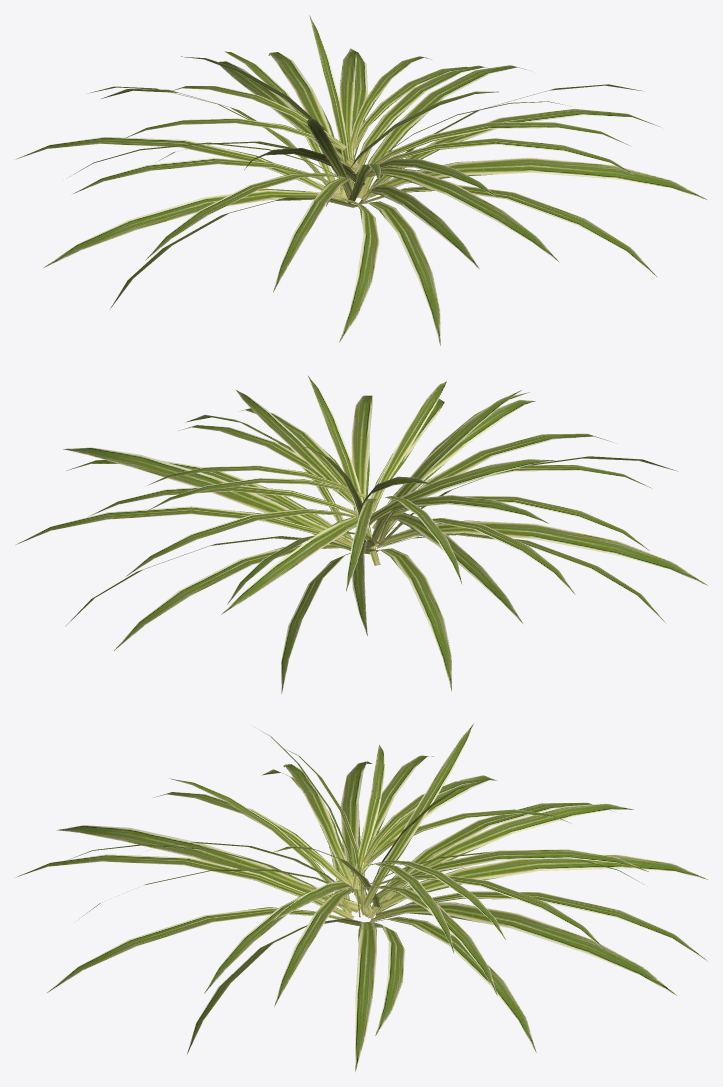
Rendered from spiderPlant.obj.
3 renders of one model, top to bottom at view 1: azimuth 30°, elevation 25°; view 2: azimuth 150°, elevation 25°; view 3: azimuth 270°, elevation 25°, orthographic. The views are drawn at different scales.
Parts seen in each view (by area): view 1: Mesh1 spiderLeaf1 SpiderPlant1 Model, Mesh35 spiderLeaf35 SpiderPlant1 Model, Mesh5 spiderLeaf5 SpiderPlant1 Model, Mesh32 spiderLeaf32 SpiderPlant1 Model, Mesh3 spiderLeaf3 SpiderPlant1 Model, Mesh23 spiderLeaf23 SpiderPlant1 Model, Mesh16 spiderLeaf16 SpiderPlant1 Model, Mesh22 spiderLeaf22 SpiderPlant1 Model, Mesh14 spiderLeaf14 SpiderPlant1 Model, Mesh30 spiderLeaf30 SpiderPlant1 Model, Mesh31 spiderLeaf31 SpiderPlant1 Model, Mesh6 spiderLeaf6 SpiderPlant1 Model (+21 smaller); view 2: Mesh17 spiderLeaf17 SpiderPlant1 Model, Mesh26 spiderLeaf26 SpiderPlant1 Model, Mesh3 spiderLeaf3 SpiderPlant1 Model, Mesh23 spiderLeaf23 SpiderPlant1 Model, Mesh27 spiderLeaf27 SpiderPlant1 Model, Mesh15 spiderLeaf15 SpiderPlant1 Model, Mesh21 spiderLeaf21 SpiderPlant1 Model, Mesh38 spiderLeaf38 SpiderPlant1 Model, Mesh16 spiderLeaf16 SpiderPlant1 Model, Mesh29 spiderLeaf29 SpiderPlant1 Model, Mesh32 spiderLeaf32 SpiderPlant1 Model, Mesh9 spiderLeaf9 SpiderPlant1 Model (+24 smaller); view 3: Mesh28 spiderLeaf28 SpiderPlant1 Model, Mesh22 spiderLeaf22 SpiderPlant1 Model, Mesh18 spiderLeaf18 SpiderPlant1 Model, Mesh24 spiderLeaf24 SpiderPlant1 Model, Mesh32 spiderLeaf32 SpiderPlant1 Model, Mesh14 spiderLeaf14 SpiderPlant1 Model, Mesh16 spiderLeaf16 SpiderPlant1 Model, Mesh25 spiderLeaf25 SpiderPlant1 Model, Mesh19 spiderLeaf19 SpiderPlant1 Model, Mesh15 spiderLeaf15 SpiderPlant1 Model, Mesh23 spiderLeaf23 SpiderPlant1 Model, Mesh3 spiderLeaf3 SpiderPlant1 Model (+19 smaller).
Boxes of the visible parts, <box> form: Mesh1 spiderLeaf1 SpiderPlant1 Model: <box>368,157,707,199</box>; Mesh35 spiderLeaf35 SpiderPlant1 Model: <box>43,188,345,267</box>; Mesh5 spiderLeaf5 SpiderPlant1 Model: <box>366,167,558,261</box>; Mesh32 spiderLeaf32 SpiderPlant1 Model: <box>356,201,440,345</box>; Mesh3 spiderLeaf3 SpiderPlant1 Model: <box>16,137,347,199</box>; Mesh23 spiderLeaf23 SpiderPlant1 Model: <box>357,65,526,198</box>; Mesh16 spiderLeaf16 SpiderPlant1 Model: <box>361,185,656,276</box>; Mesh22 spiderLeaf22 SpiderPlant1 Model: <box>339,197,379,342</box>; Mesh14 spiderLeaf14 SpiderPlant1 Model: <box>361,108,659,200</box>; Mesh30 spiderLeaf30 SpiderPlant1 Model: <box>369,122,629,170</box>; Mesh31 spiderLeaf31 SpiderPlant1 Model: <box>362,185,479,269</box>; Mesh6 spiderLeaf6 SpiderPlant1 Model: <box>145,173,345,260</box>; Mesh17 spiderLeaf17 SpiderPlant1 Model: <box>377,520,707,585</box>; Mesh26 spiderLeaf26 SpiderPlant1 Model: <box>63,447,352,547</box>; Mesh3 spiderLeaf3 SpiderPlant1 Model: <box>371,548,451,691</box>; Mesh23 spiderLeaf23 SpiderPlant1 Model: <box>16,506,351,547</box>; Mesh27 spiderLeaf27 SpiderPlant1 Model: <box>221,514,358,614</box>; Mesh15 spiderLeaf15 SpiderPlant1 Model: <box>114,544,350,650</box>; Mesh21 spiderLeaf21 SpiderPlant1 Model: <box>369,459,555,525</box>; Mesh38 spiderLeaf38 SpiderPlant1 Model: <box>372,390,521,540</box>; Mesh16 spiderLeaf16 SpiderPlant1 Model: <box>351,395,372,542</box>; Mesh29 spiderLeaf29 SpiderPlant1 Model: <box>386,513,522,623</box>; Mesh32 spiderLeaf32 SpiderPlant1 Model: <box>375,433,613,546</box>; Mesh9 spiderLeaf9 SpiderPlant1 Model: <box>236,390,354,504</box>; Mesh28 spiderLeaf28 SpiderPlant1 Model: <box>375,902,676,995</box>; Mesh22 spiderLeaf22 SpiderPlant1 Model: <box>57,825,361,912</box>; Mesh18 spiderLeaf18 SpiderPlant1 Model: <box>368,854,707,918</box>; Mesh24 spiderLeaf24 SpiderPlant1 Model: <box>385,803,633,900</box>; Mesh32 spiderLeaf32 SpiderPlant1 Model: <box>16,854,354,919</box>; Mesh14 spiderLeaf14 SpiderPlant1 Model: <box>355,922,376,1071</box>; Mesh16 spiderLeaf16 SpiderPlant1 Model: <box>46,907,344,993</box>; Mesh25 spiderLeaf25 SpiderPlant1 Model: <box>371,849,648,902</box>; Mesh19 spiderLeaf19 SpiderPlant1 Model: <box>363,724,473,908</box>; Mesh15 spiderLeaf15 SpiderPlant1 Model: <box>370,891,706,960</box>; Mesh23 spiderLeaf23 SpiderPlant1 Model: <box>373,916,536,1052</box>; Mesh3 spiderLeaf3 SpiderPlant1 Model: <box>365,802,612,918</box>.
Size of the model in its own units: 16.84 by 3.94 by 16.19.
1 material, 1 textured.
